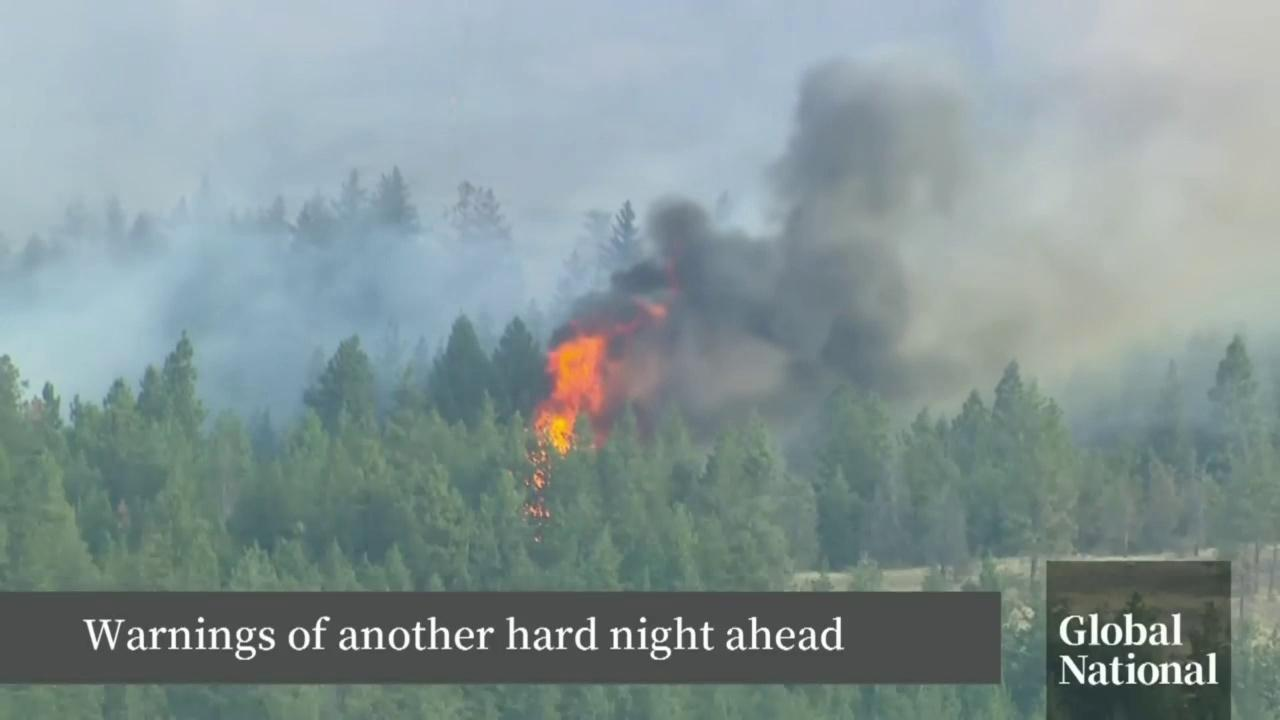fire: (522, 253, 683, 531)
smoke: (0, 0, 1280, 469)
